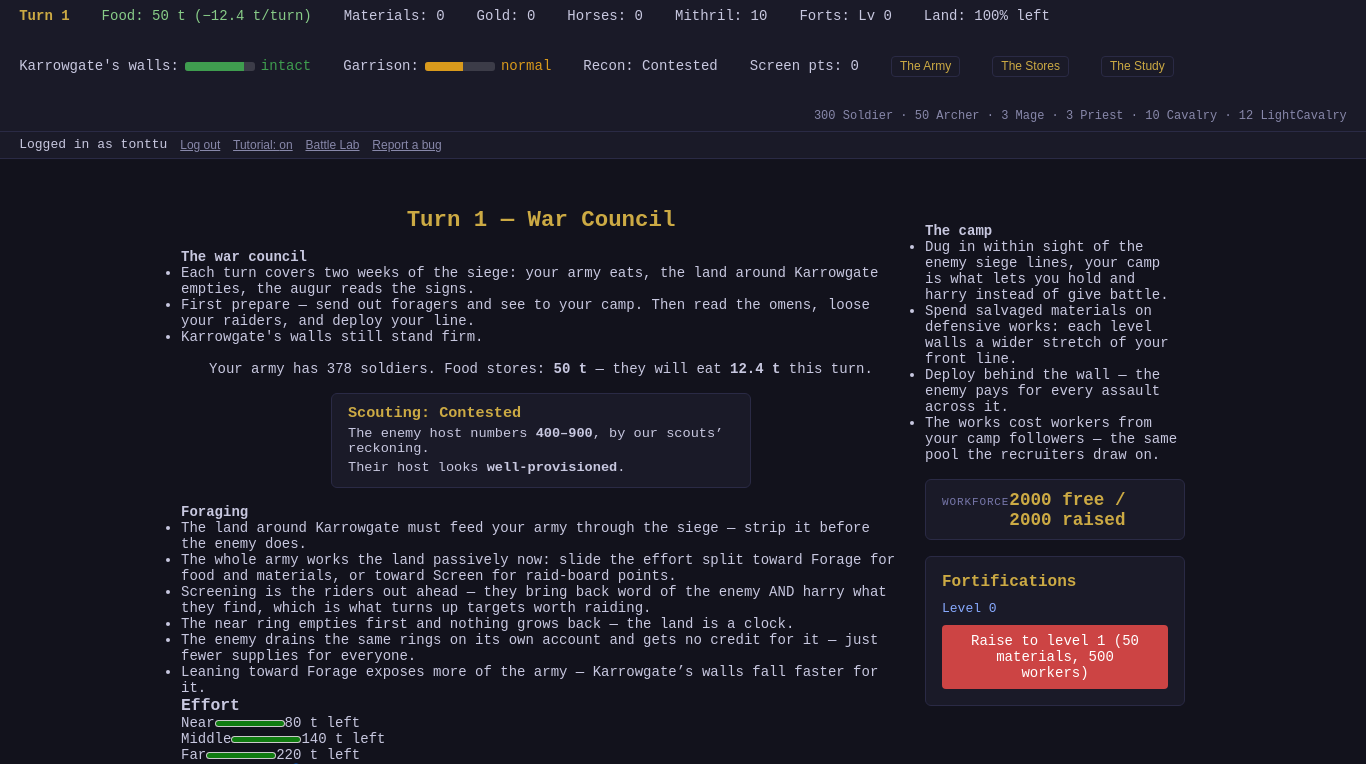
Scenario: a charter that is away › says so on the roll, with the day it is back (13-11's third state)
Expected: the heading "Turn 1 — War Council" is shown, [407,207,675,233]
Click the button with test id "hud-army" at (926, 66), box [891,56,960,77]
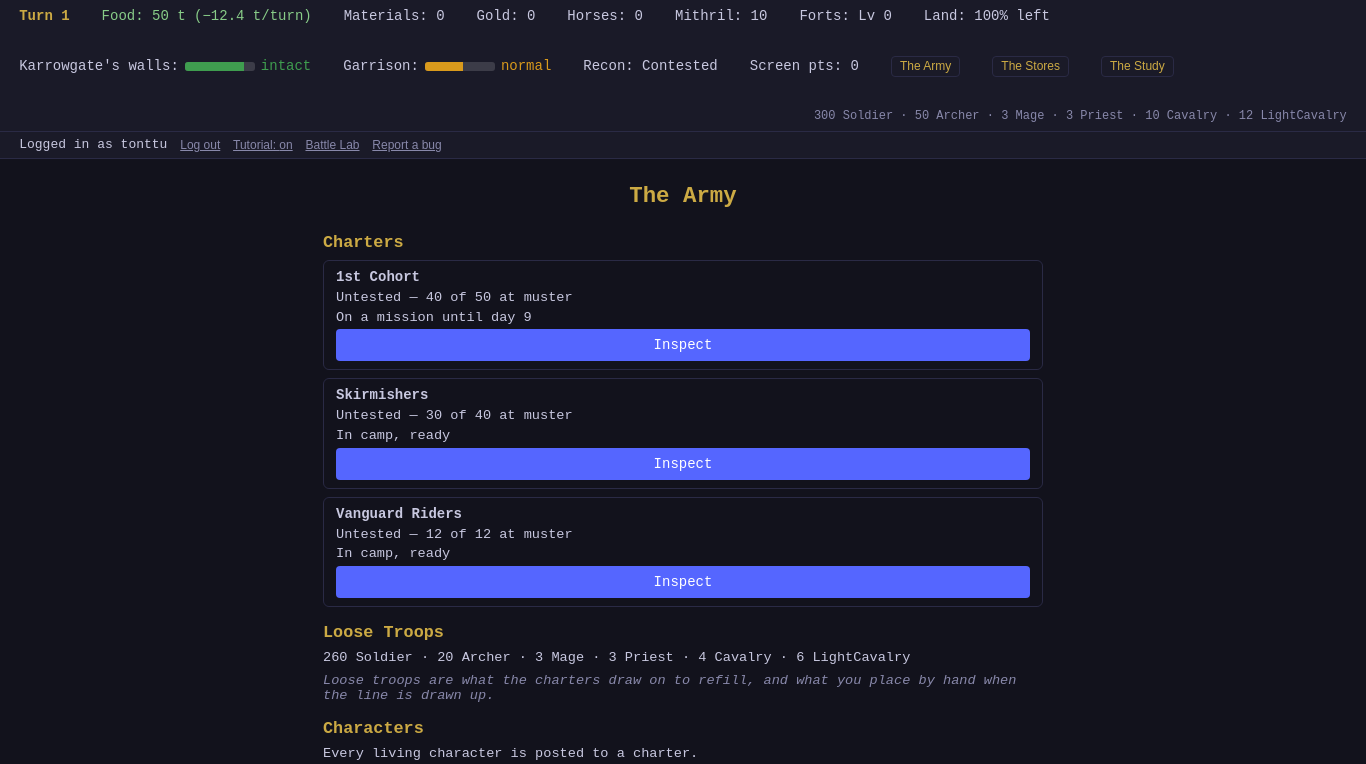
Expected: the text with test id "roll-availability-1" reads "On a mission until day 9", [336,310,532,325]
Expected: the text with test id "roll-availability-2" reads "In camp, ready", [336,428,450,443]
